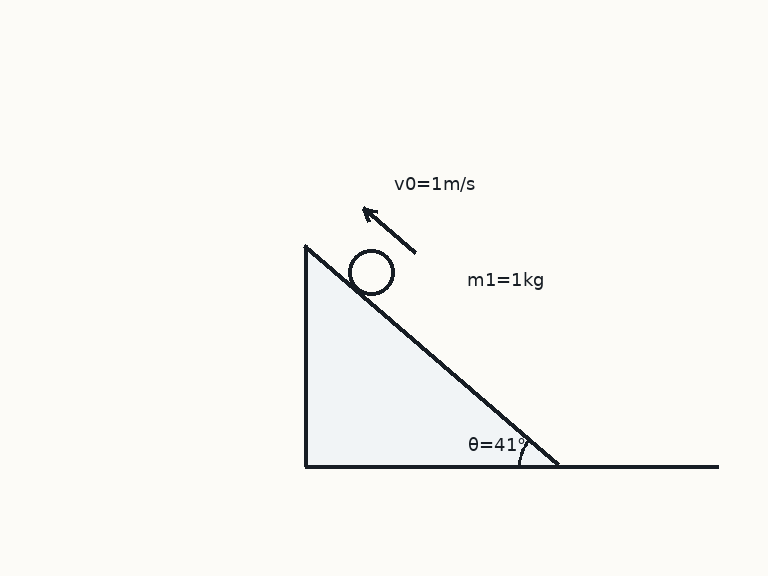ball: (346, 247, 396, 297)
ramp: (303, 243, 561, 468)
